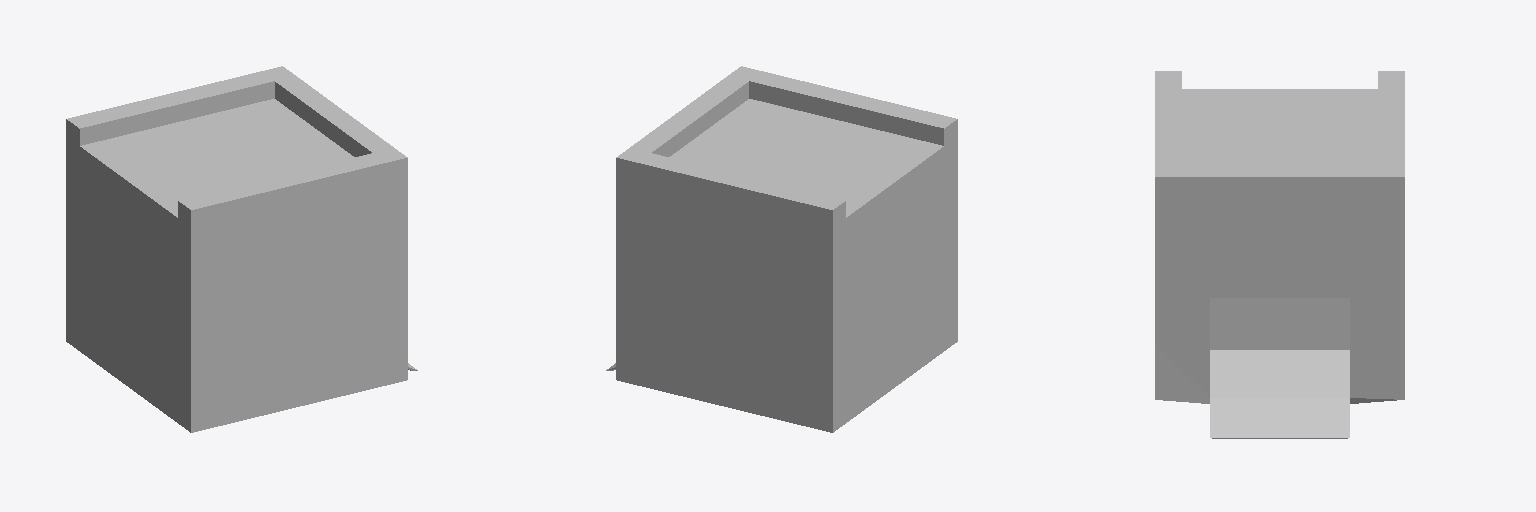
File: arenito.obj
The picture shows the model from 3 angles: view 1: azimuth 30°, elevation 25°; view 2: azimuth 150°, elevation 25°; view 3: azimuth 270°, elevation 25°; orthographic projection.
Visible parts, largest first — view 1: Cube; view 2: Cube; view 3: Cube.
Part boxes in pixels (bbox=[...]): Cube: bbox=[66, 66, 417, 432]; Cube: bbox=[606, 66, 957, 432]; Cube: bbox=[1155, 71, 1404, 438].
Bounding box in the file's own units: 1.65 × 1.51 × 1.4.